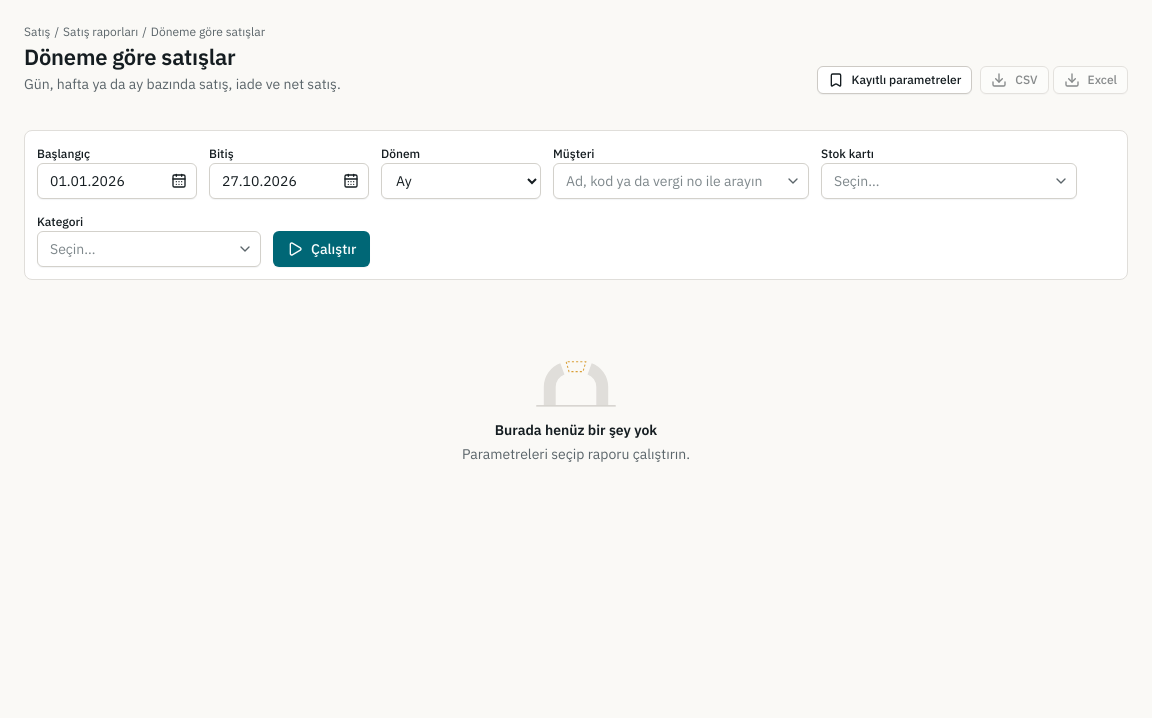
Test case: sales reports › pages every report and leaves group_by out of reports that refuse it
The width and height of the screenshot is (1152, 718).
Step 1. Click the button "Çalıştır" → [322, 249], box [273,231,370,267]
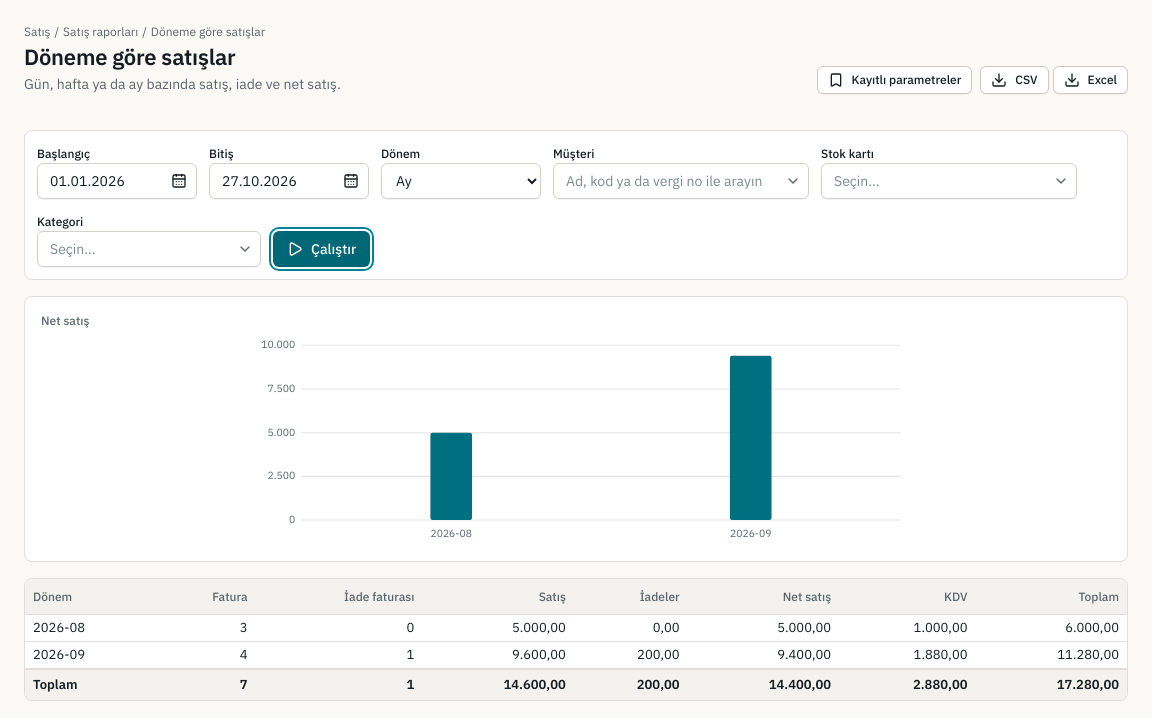
Now the table named "Döneme göre satışlar" is shown, box [25,579,1127,700]
